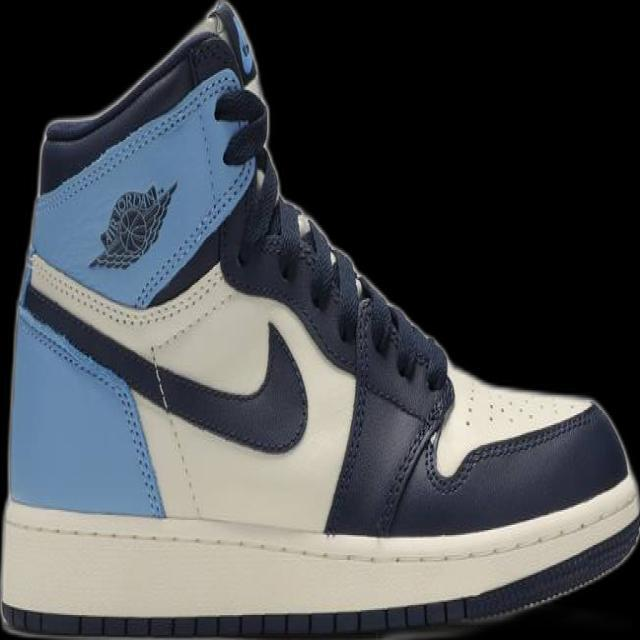J1_InsoleChar: (0, 0, 639, 639)
J1_ShoeLogo: (87, 179, 178, 270)
J1_StitchPattern: (17, 204, 603, 531), (20, 251, 227, 519), (2, 497, 639, 569), (375, 384, 598, 533), (290, 205, 449, 398), (37, 65, 244, 209), (23, 251, 233, 346), (135, 154, 258, 308), (421, 402, 599, 495), (143, 344, 206, 521), (375, 402, 448, 534), (24, 252, 137, 329), (292, 209, 364, 311), (203, 0, 259, 83)
